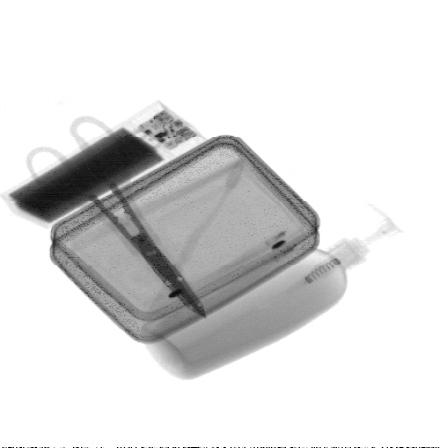Powerbank: (2, 98, 213, 233)
Scissors: (25, 114, 208, 323)
